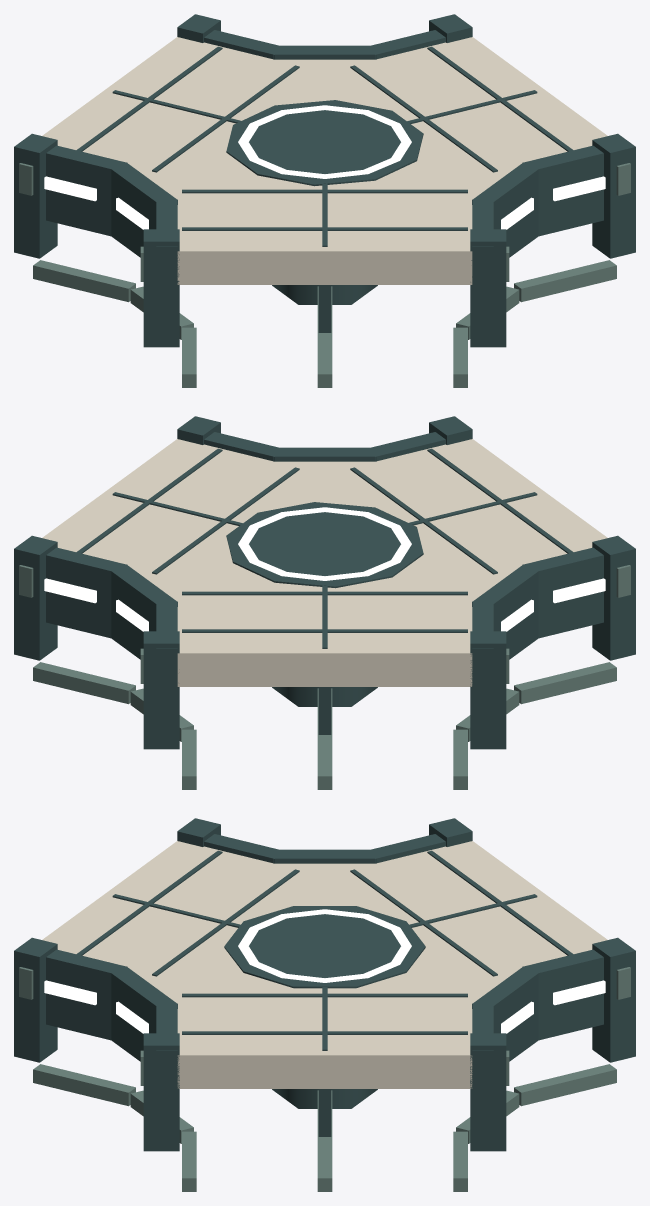
Rendered from Junction_Y_lab.glb.
3 views of the same model, one above another, from view 1: azimuth 30°, elevation 25°; view 2: azimuth 150°, elevation 25°; view 3: azimuth 270°, elevation 25° (orthographic).
Visible parts, largest first — view 1: Junction_Y; view 2: Junction_Y; view 3: Junction_Y.
Part boxes in pixels (bbox=[...]): Junction_Y: bbox=[14, 14, 635, 387]; Junction_Y: bbox=[14, 416, 635, 789]; Junction_Y: bbox=[14, 818, 635, 1191].
Bounding box in the file's own units: 5.09 × 1.58 × 5.87.
